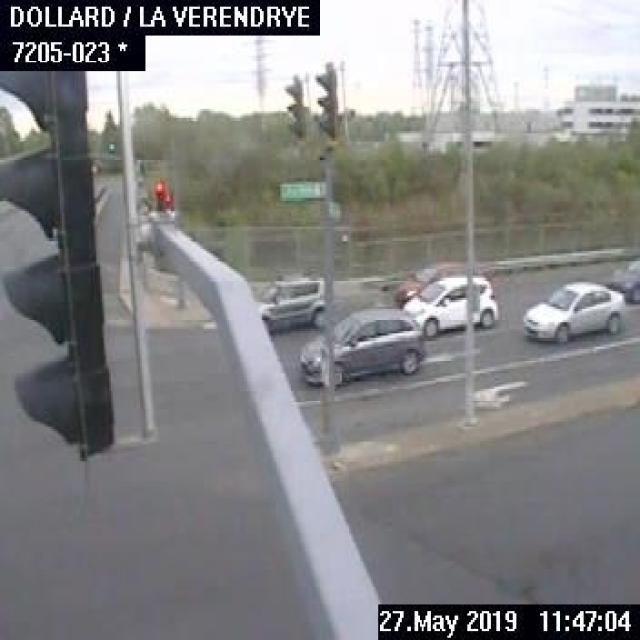vehicle: (296, 304, 424, 388), (520, 278, 626, 342), (402, 273, 496, 338), (390, 261, 499, 308), (256, 273, 326, 327), (609, 254, 638, 305)
